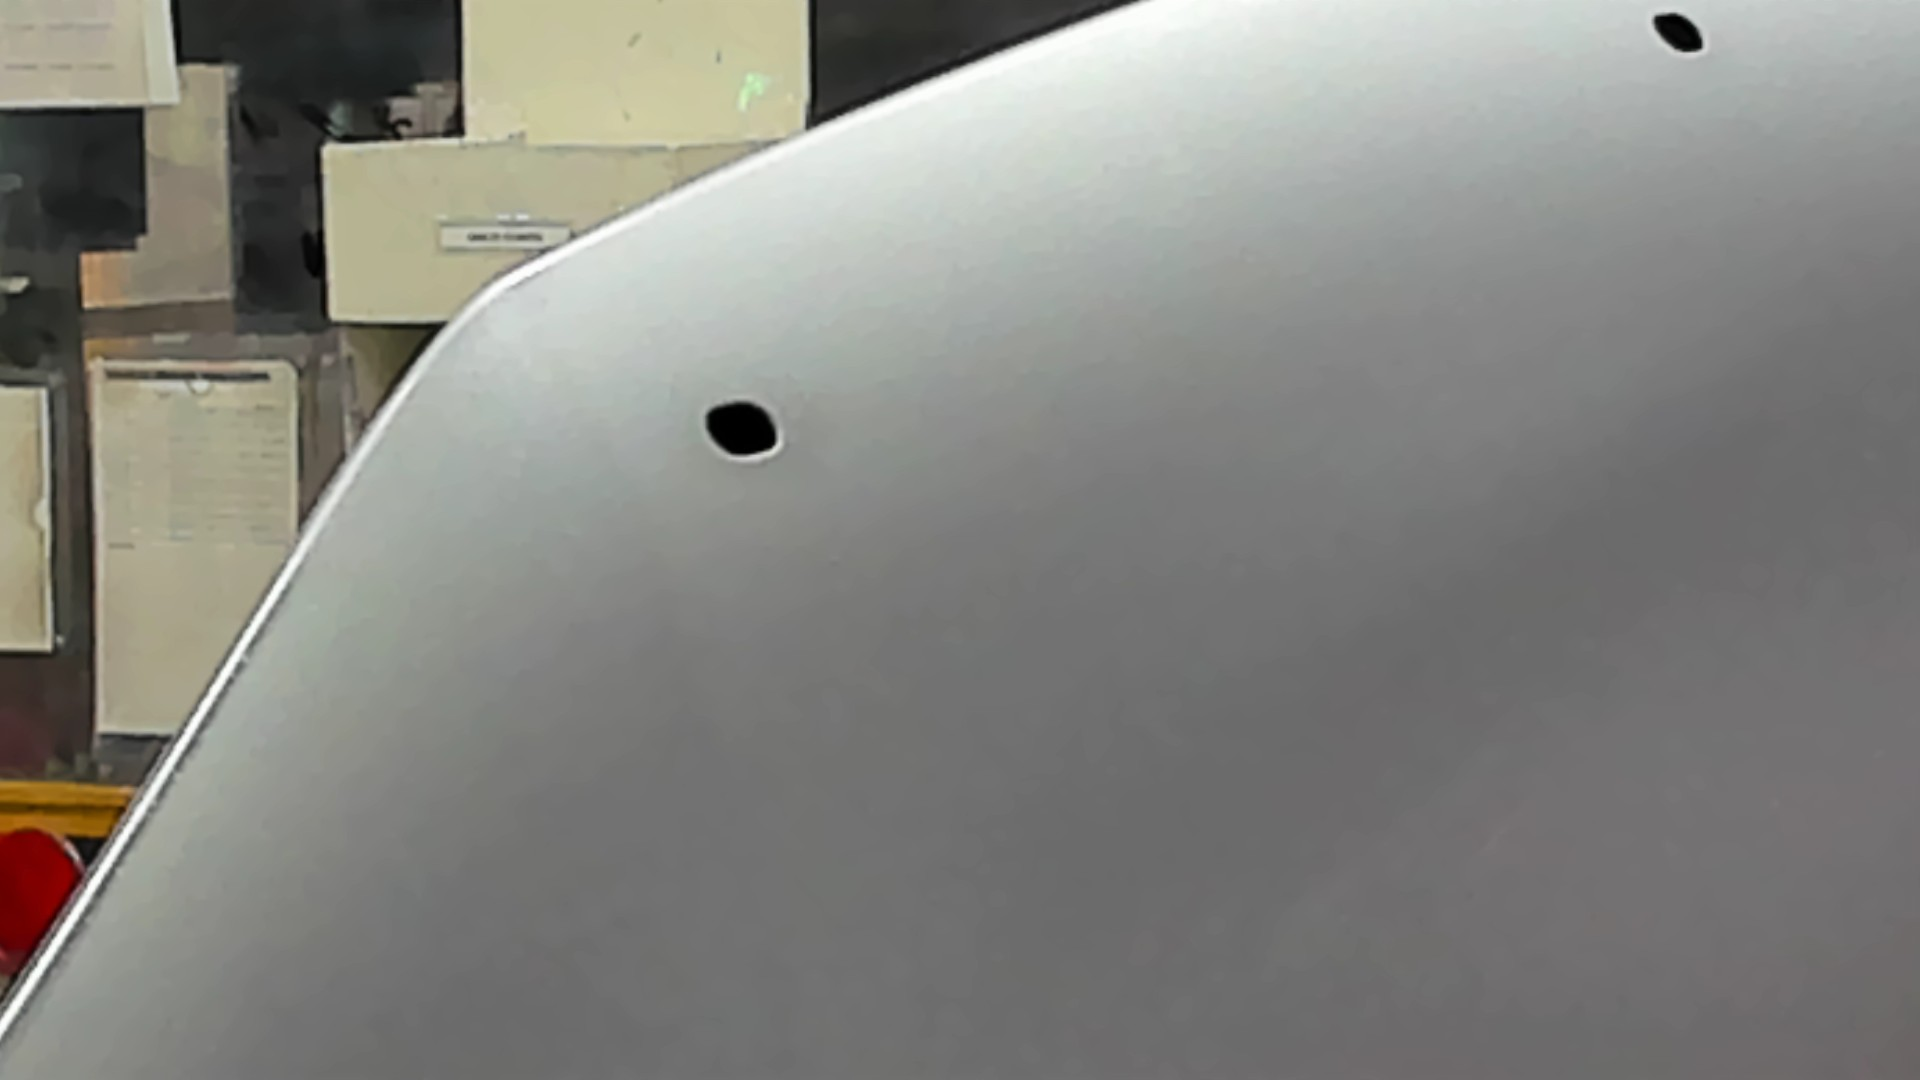chico: (694, 394, 793, 465), (1636, 1, 1725, 67)
